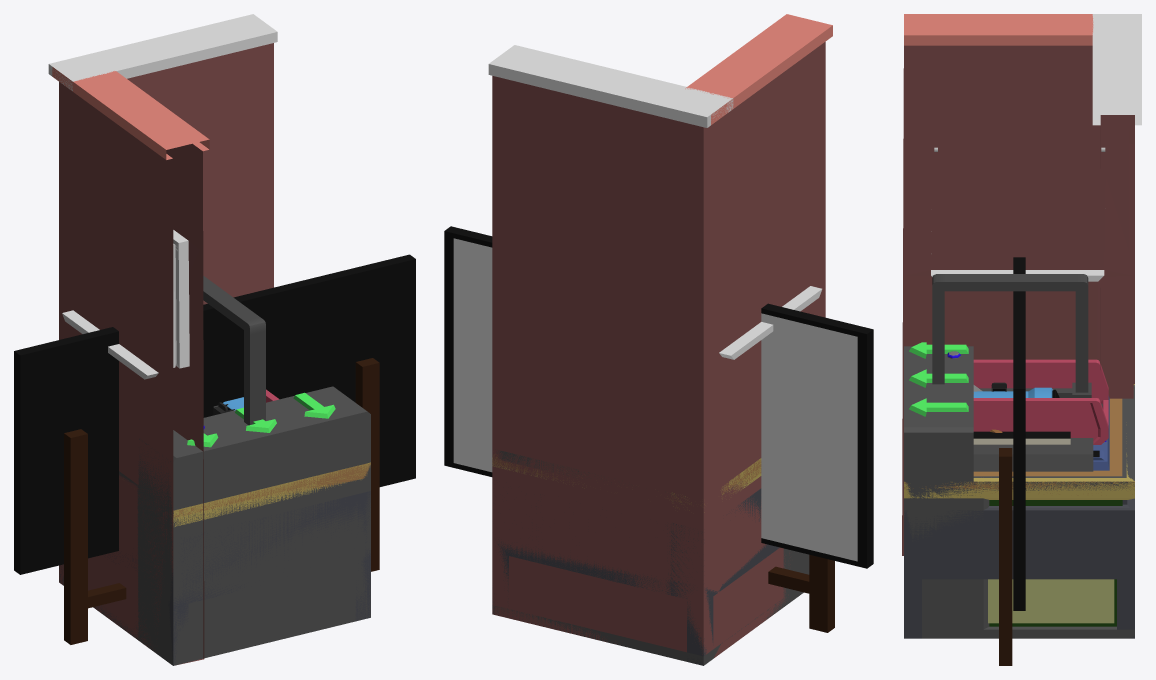
The model's file is SceneObjecten.fbx.
The picture shows the model from 3 angles, left to right: view 1: azimuth 30°, elevation 25°; view 2: azimuth 150°, elevation 25°; view 3: azimuth 270°, elevation 25°; orthographic projection. The views are drawn at different scales.
Visible parts, largest first — view 1: WhiteBoard, Deposit, Muur_corner, Muur_raam, Muur_base, Workbench, 3DPrinter, ThrashCan, Storage; view 2: Muur_corner, WhiteBoard, Muur_raam, Muur_base, Workbench, Deposit; view 3: Muur_corner, Muur_raam, Muur_base, Deposit, Workbench, 3DPrinter, ThrashCan, OnderdelenBak, WhiteBoard, Plate, Werkplaat, Soldeerbout.
Boxes of the visible parts, bbox=[...] form: WhiteBoard: bbox=[14, 254, 415, 644]; Deposit: bbox=[59, 386, 370, 665]; Muur_corner: bbox=[48, 14, 277, 585]; Muur_raam: bbox=[52, 67, 209, 664]; Muur_base: bbox=[52, 67, 209, 664]; Workbench: bbox=[59, 463, 370, 665]; 3DPrinter: bbox=[203, 276, 265, 425]; ThrashCan: bbox=[173, 462, 370, 526]; Storage: bbox=[177, 463, 370, 511]; Muur_corner: bbox=[488, 15, 832, 654]; WhiteBoard: bbox=[444, 226, 873, 632]; Muur_raam: bbox=[703, 14, 832, 657]; Muur_base: bbox=[685, 14, 832, 382]; Workbench: bbox=[492, 455, 779, 665]; Deposit: bbox=[492, 449, 809, 665]; Muur_corner: bbox=[902, 14, 1141, 555]; Muur_raam: bbox=[902, 35, 1134, 555]; Muur_base: bbox=[904, 14, 1134, 381]; Deposit: bbox=[904, 342, 1134, 638]; Workbench: bbox=[904, 384, 1134, 638]; 3DPrinter: bbox=[932, 274, 1106, 471]; ThrashCan: bbox=[904, 384, 1134, 623]; OnderdelenBak: bbox=[973, 359, 1108, 444]; WhiteBoard: bbox=[999, 257, 1025, 665]; Plate: bbox=[973, 431, 1070, 444]; Werkplaat: bbox=[947, 351, 1109, 470]; Soldeerbout: bbox=[973, 387, 1059, 397].
Bounding box in the file's own units: 400 × 500 × 208.
